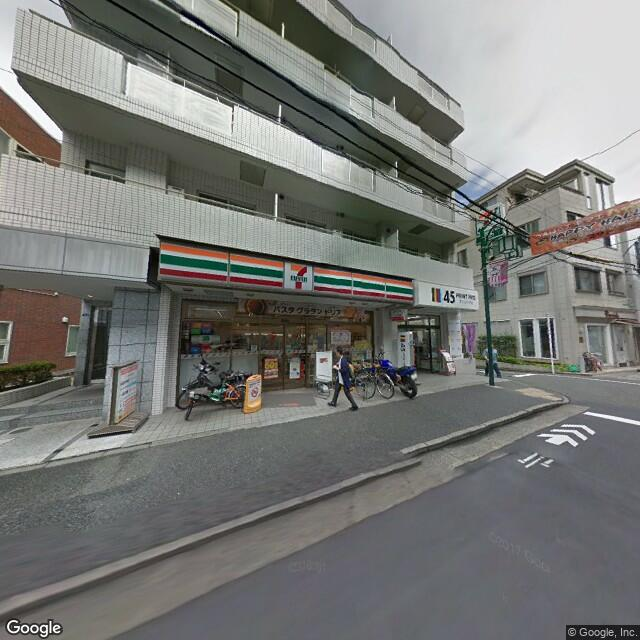7-eleven: (158, 236, 415, 308)
